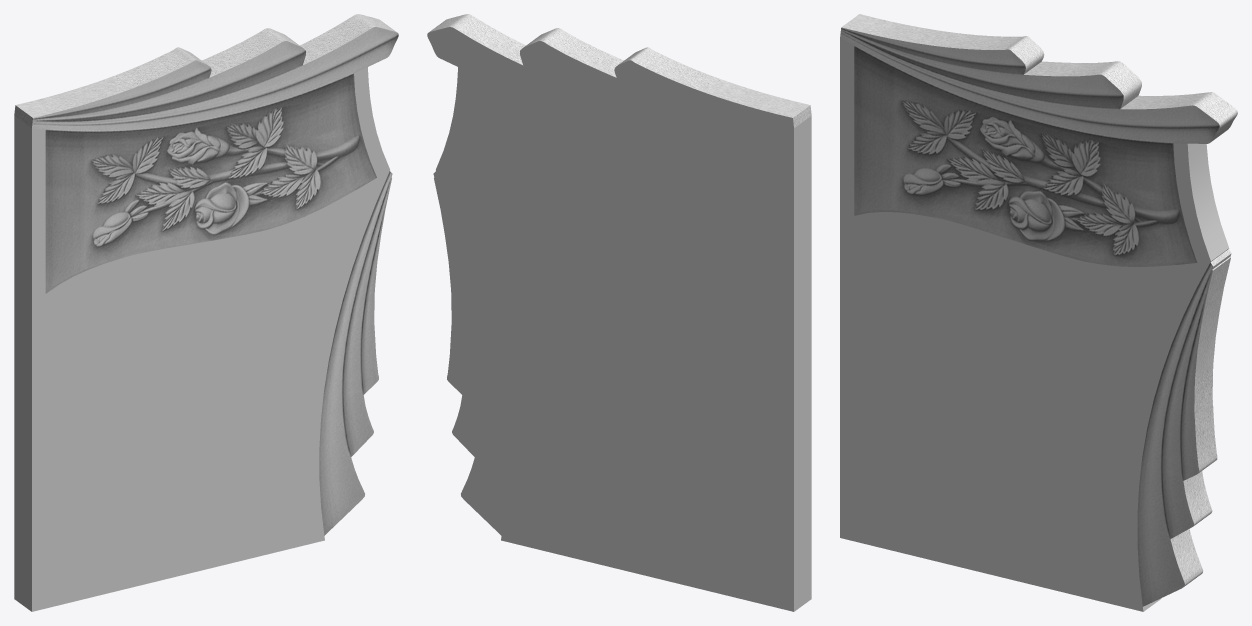
File: cn2e461632cb_tkf.glb
3 views of the same model, side by side, from view 1: azimuth 30°, elevation 25°; view 2: azimuth 150°, elevation 25°; view 3: azimuth 330°, elevation 25° (orthographic). The views are drawn at different scales.
Visible parts, largest first — view 1: Pam-d02-109, Pam-d02-109_2_notexture; view 2: Pam-d02-109, Pam-d02-109_2_notexture; view 3: Pam-d02-109, Pam-d02-109_2_notexture.
Part boxes in pixels (x1,y1,x2,y2): Pam-d02-109: [14, 67, 389, 611]; Pam-d02-109_2_notexture: [14, 14, 398, 535]; Pam-d02-109: [427, 27, 811, 611]; Pam-d02-109_2_notexture: [430, 14, 811, 128]; Pam-d02-109: [840, 38, 1228, 611]; Pam-d02-109_2_notexture: [840, 14, 1237, 606].
Bounding box in the file's own units: 0.6 × 0.8 × 0.05.
1 material, 1 textured.
